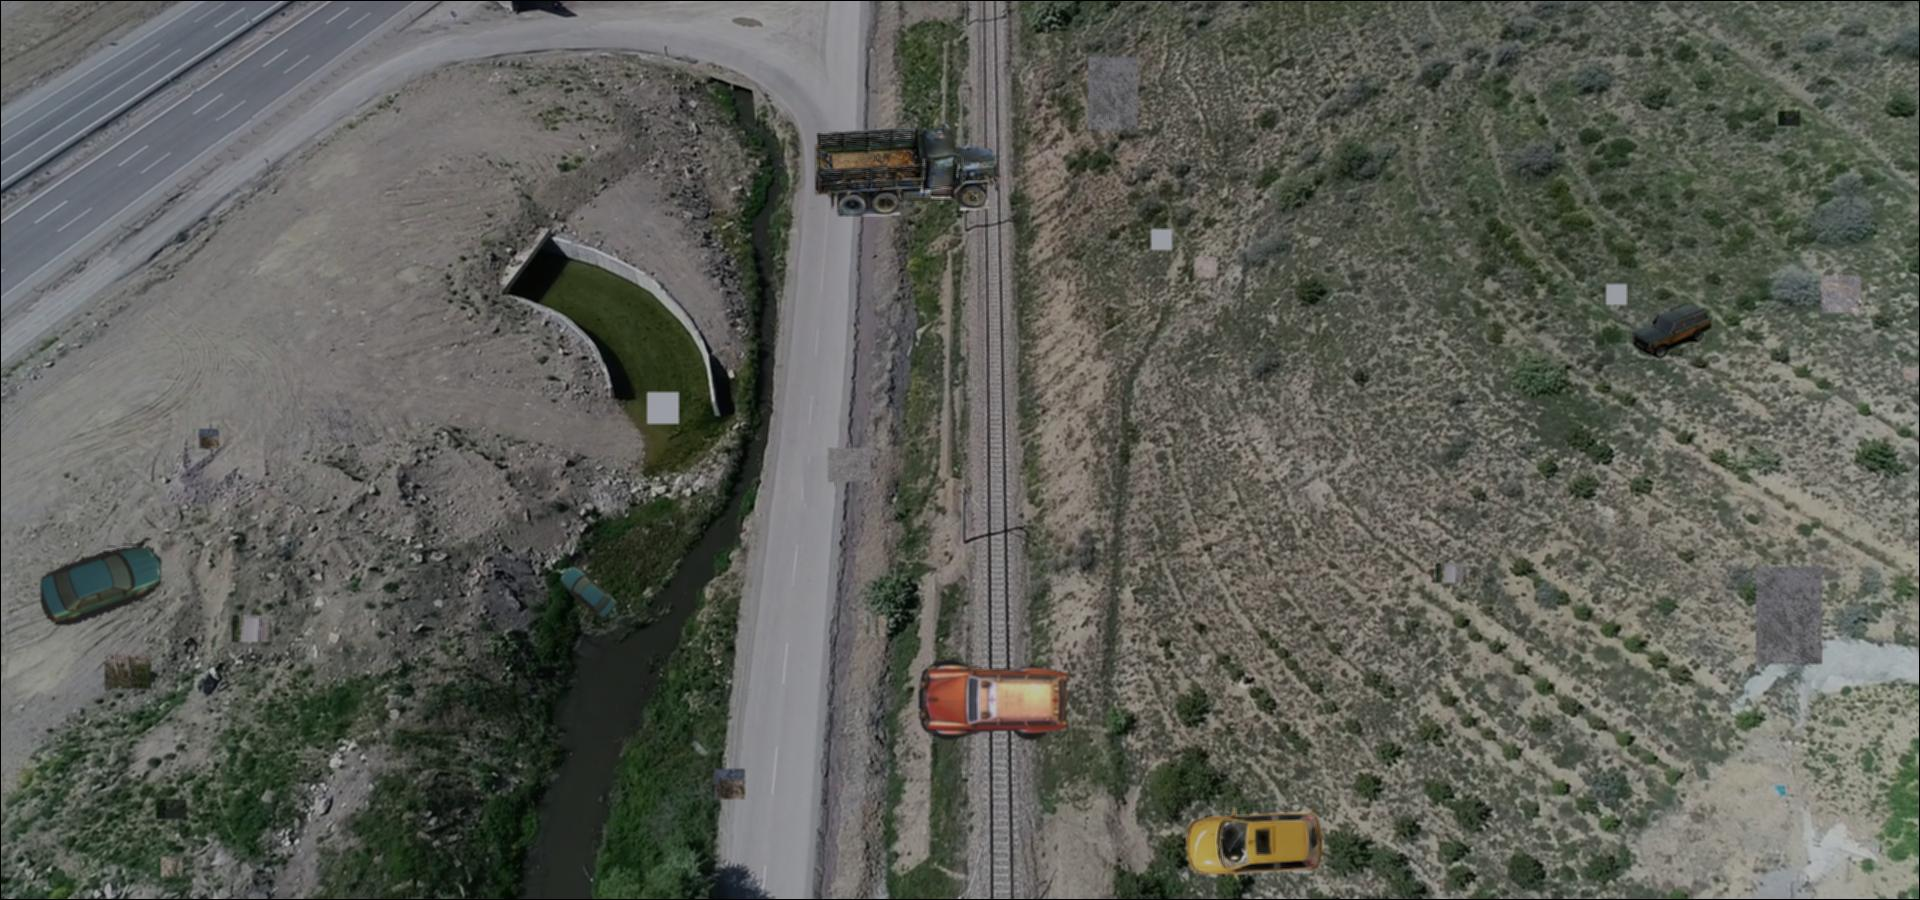arac: (816, 122, 1002, 216), (916, 660, 1073, 742), (1179, 806, 1333, 885), (40, 542, 160, 624), (1633, 304, 1711, 358), (558, 564, 617, 620)
